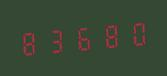eight: (18, 25, 43, 59), (96, 18, 121, 52)
six: (70, 21, 95, 54)
three: (44, 23, 69, 57)
zero: (122, 16, 147, 50)
